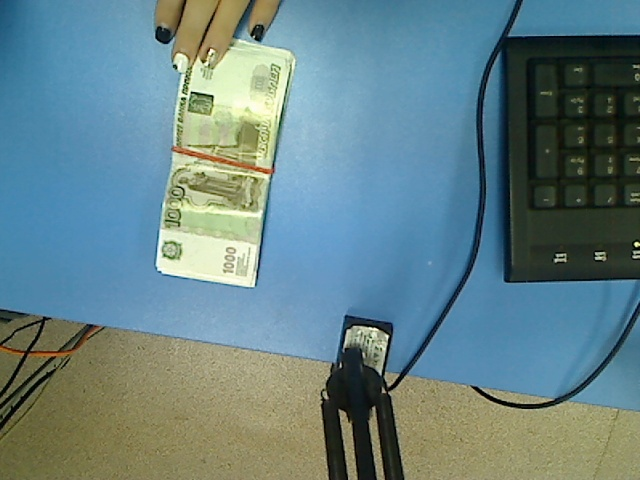banknotes: (154, 36, 298, 291)
